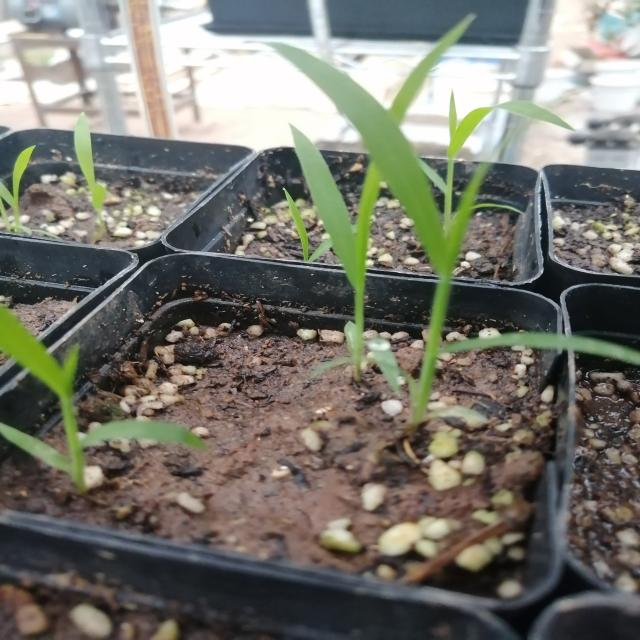crabgrass: (259, 31, 553, 382), (0, 288, 178, 499)
